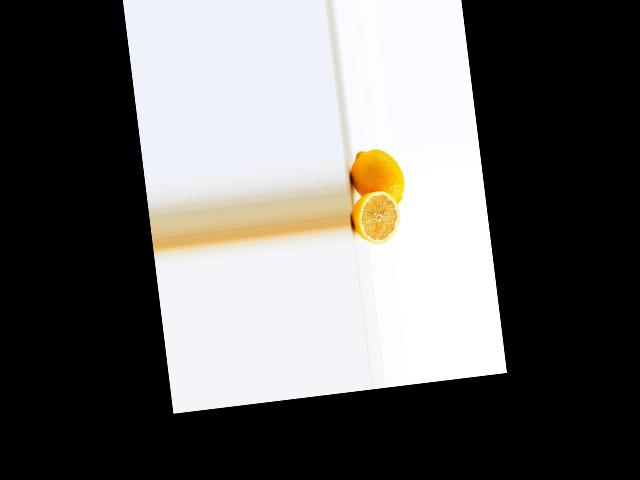lemon: (342, 144, 405, 216)
